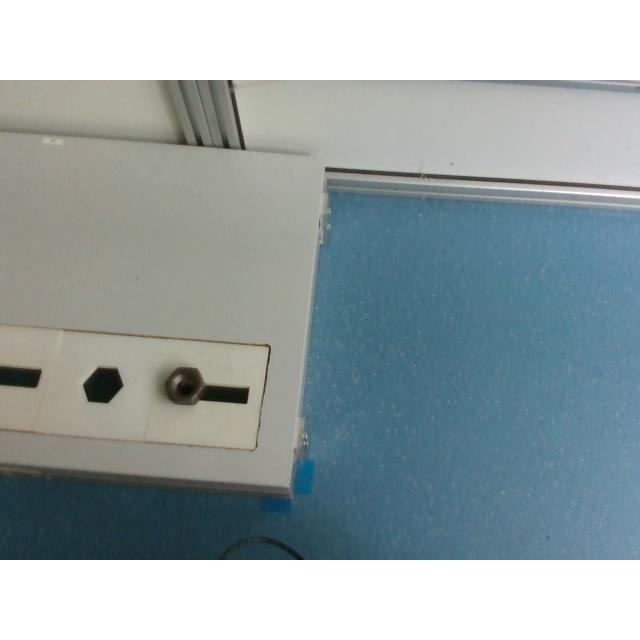M30: (162, 367, 205, 405)
